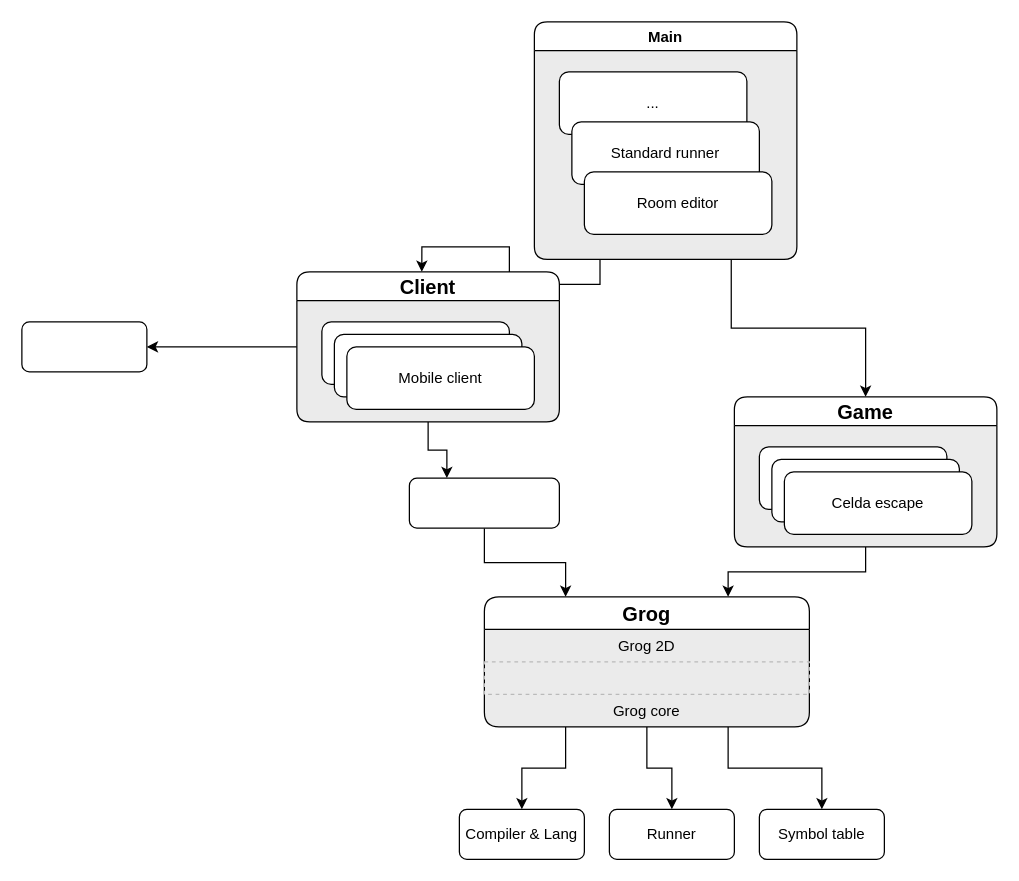
Some shapes in this 1019 by 881 pixel diagram are drawn without their labels. Each missing label, with the centre of its shape:
Fede loopin: point (84, 346)
Grog base: point (646, 677)
Grog environment: point (483, 502)
